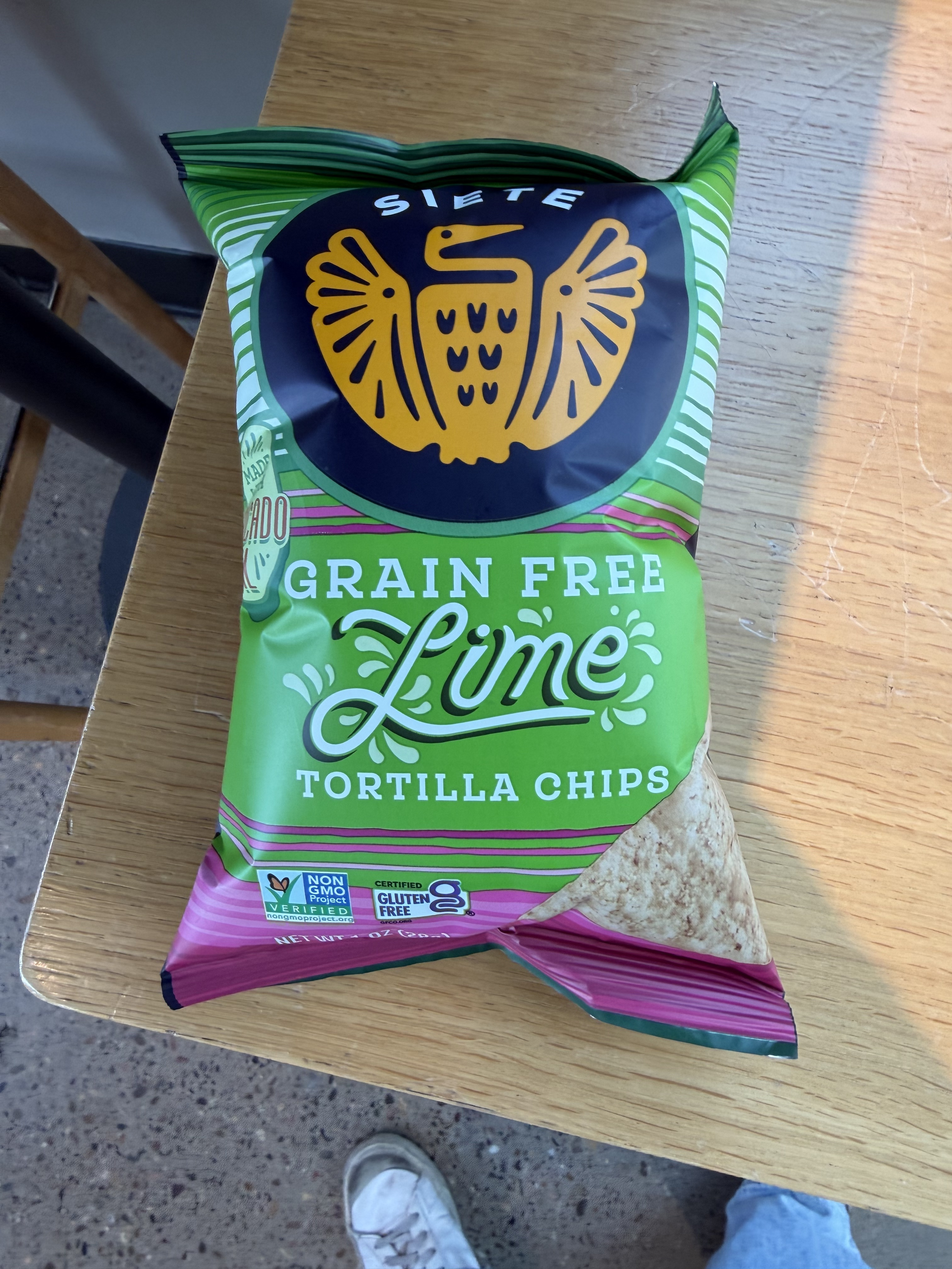lime: (123, 92, 838, 1066)
